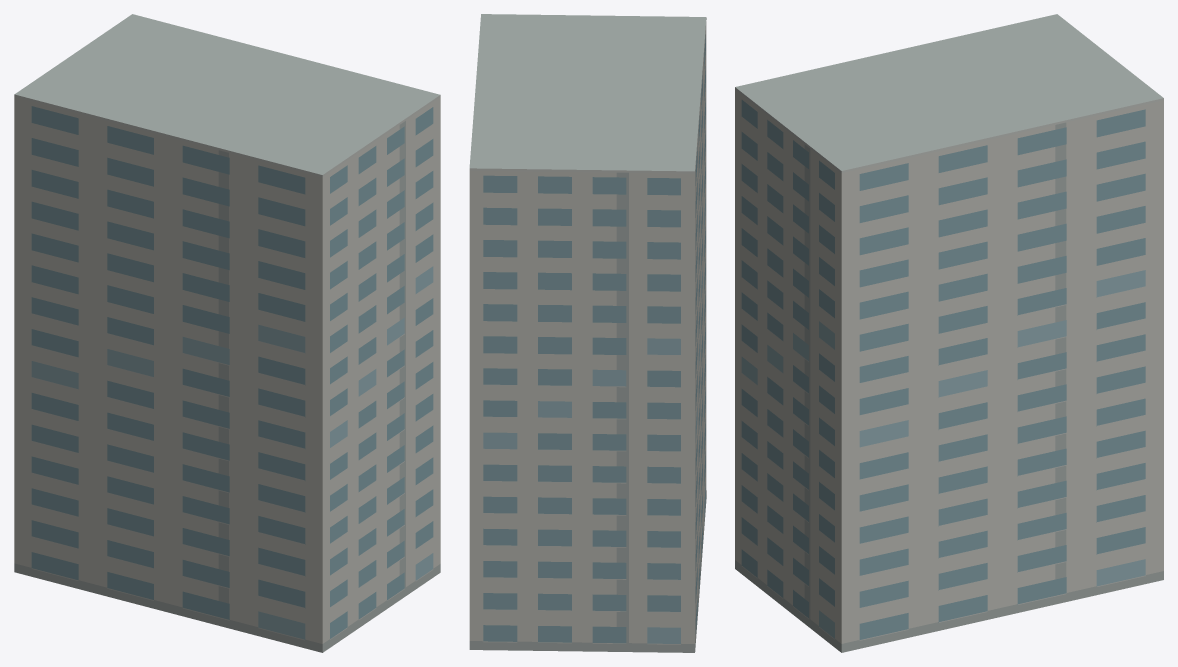
File: residential-ebc8f5eb-3096-4dcc-879d-d2c5cafa6c99.glb
3 renders of one model, left to right at view 1: azimuth 30°, elevation 25°; view 2: azimuth 150°, elevation 25°; view 3: azimuth 270°, elevation 25°, orthographic.
Visible parts, largest first — view 1: residential-ebc8f5eb-3096-4dcc-879d-d2c5cafa6c99.tmp; view 2: residential-ebc8f5eb-3096-4dcc-879d-d2c5cafa6c99.tmp; view 3: residential-ebc8f5eb-3096-4dcc-879d-d2c5cafa6c99.tmp.
Part boxes in pixels (x1,y1,x2,y2): residential-ebc8f5eb-3096-4dcc-879d-d2c5cafa6c99.tmp: (14, 14, 440, 652); residential-ebc8f5eb-3096-4dcc-879d-d2c5cafa6c99.tmp: (469, 14, 706, 652); residential-ebc8f5eb-3096-4dcc-879d-d2c5cafa6c99.tmp: (735, 14, 1163, 652).
Size of the model in its own units: 36.37 by 52 by 41.96.
